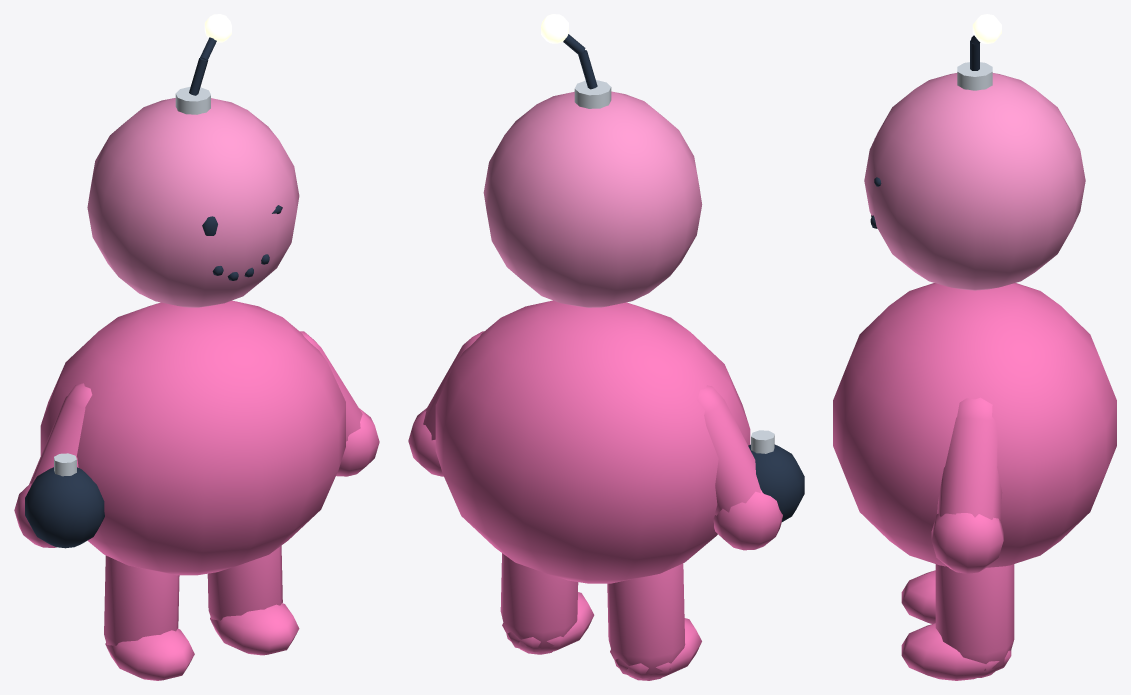
File: WinkBomber.fbx
3 views of the same model, side by side, from view 1: azimuth 30°, elevation 25°; view 2: azimuth 150°, elevation 25°; view 3: azimuth 270°, elevation 25° (orthographic). The views are drawn at different scales.
Parts seen in each view (by area): view 1: Torso, Head, LegR, ArmR, LegL, ArmL; view 2: Torso, Head, ArmR, LegR, LegL, ArmL; view 3: Torso, Head, LegL, ArmL, LegR.
Boxes of the visible parts, x1,y1,x2,y2 form: Torso: (40,300,345,575); Head: (87,14,299,307); LegR: (104,555,194,680); ArmR: (14,383,104,548); LegL: (207,545,299,655); ArmL: (300,331,379,476); Torso: (435,300,750,583); Head: (483,14,702,307); ArmR: (697,385,804,550); LegR: (607,563,701,680); LegL: (500,553,594,654); ArmL: (408,331,483,476); Torso: (833,283,1116,567); Head: (864,14,1085,290); LegL: (901,564,1014,680); ArmL: (931,397,1003,573); LegR: (901,570,935,623).
Size of the model in its own units: 0.5942 by 0.9902 by 0.3924.
